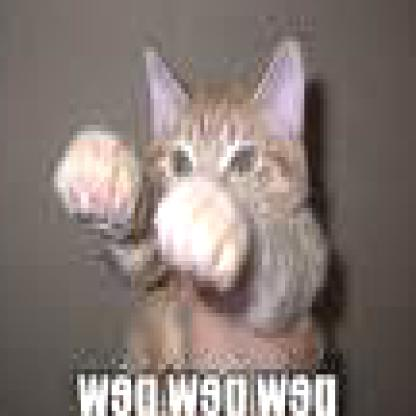cat: (54, 37, 331, 374)
